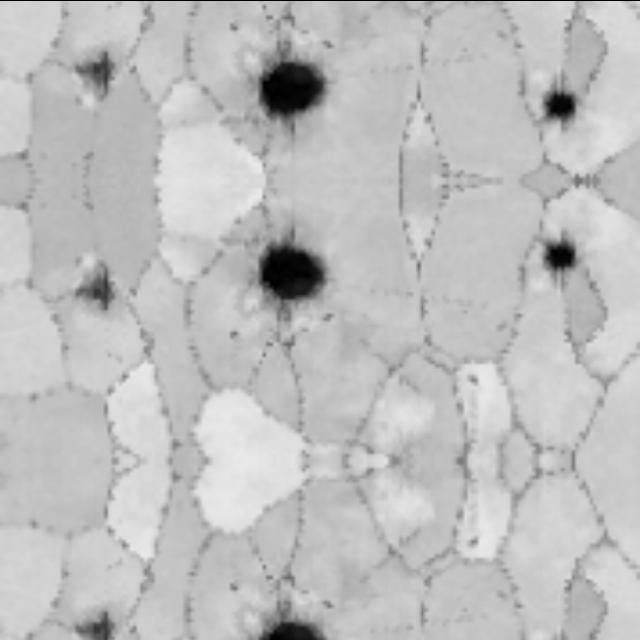good_void: (231, 223, 340, 337), (231, 25, 340, 138), (57, 244, 148, 332), (57, 29, 148, 117), (524, 222, 588, 297), (524, 64, 588, 139), (248, 595, 329, 640), (67, 599, 130, 640), (215, 310, 254, 350), (215, 572, 254, 612), (215, 11, 254, 51), (458, 366, 486, 393), (458, 529, 486, 556), (314, 304, 340, 329), (314, 593, 340, 618), (314, 32, 340, 57)
